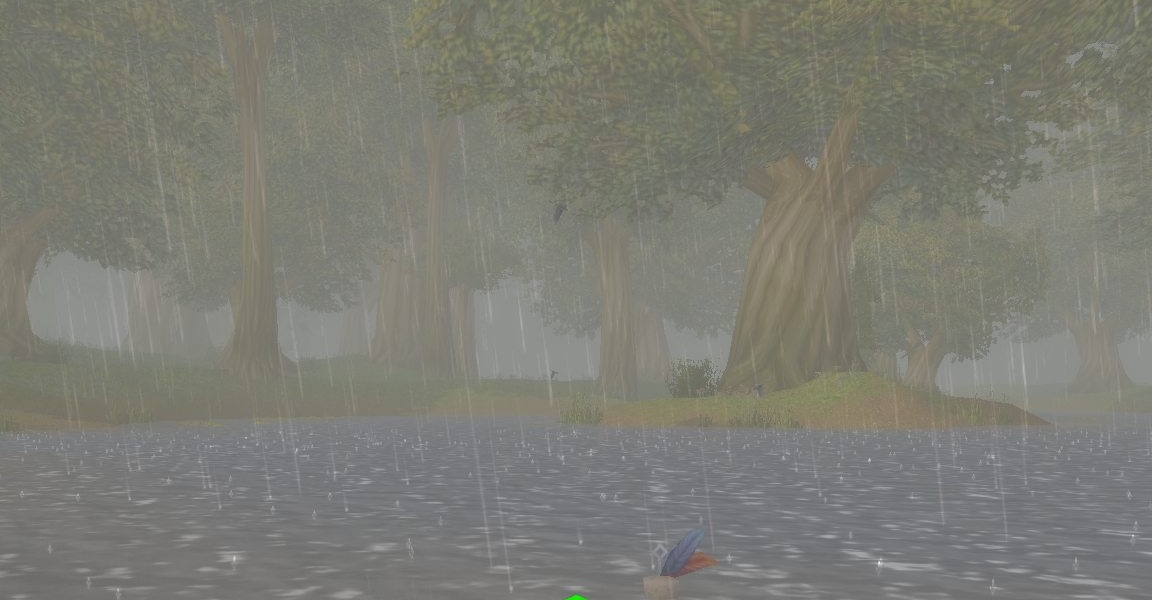Bobber: (639, 531, 718, 599)
